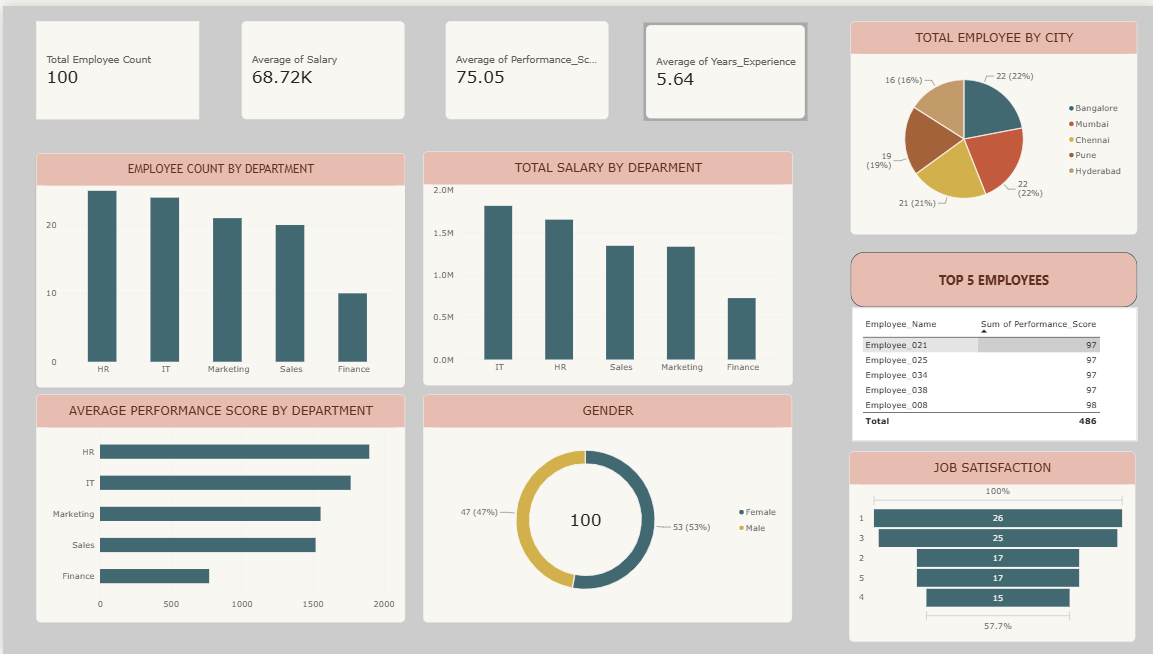

Layout of this report page (visuals, bound fields, positions):
{"tool":"powerbi","page":{"name":"Page 1","canvas":[1920,1080],"ordinal":0},"visuals":[{"type":"cardVisual","fields":{"Data":["Count(PowerBI_Employee_HR_Analytics_D.Employee_ID)"]},"box":[53.9,25.5,272.1,164.4],"z":0},{"type":"cardVisual","fields":{"Data":["Avg(PowerBI_Employee_HR_Analytics_D.Salary)"]},"box":[396.9,25.5,272,164],"z":1000},{"type":"cardVisual","fields":{"Data":["Avg(PowerBI_Employee_HR_Analytics_D.Years_Experience)"]},"box":[1066.7,26.7,273.3,164],"z":2000},{"type":"cardVisual","fields":{"Data":["Avg(PowerBI_Employee_HR_Analytics_D.Performance_Score)"]},"box":[737,25.5,272,164],"z":3000},{"type":"clusteredColumnChart","title":"EMPLOYEE COUNT  BY DEPARTMENT","fields":{"Category":["PowerBI_Employee_HR_Analytics_D.Department"],"Y":["Count(PowerBI_Employee_HR_Analytics_D.Employee_ID)"]},"box":[53.9,243.8,615.1,391.2],"z":4000},{"type":"clusteredColumnChart","title":"TOTAL SALARY BY DEPARMENT ","fields":{"Category":["PowerBI_Employee_HR_Analytics_D.Department"],"Y":["Sum(PowerBI_Employee_HR_Analytics_D.Salary)"]},"box":[700,243.3,616.7,390],"z":5000},{"type":"barChart","title":"AVERAGE PERFORMANCE SCORE BY DEPARTMENT","fields":{"Category":["PowerBI_Employee_HR_Analytics_D.Department"],"Y":["Sum(PowerBI_Employee_HR_Analytics_D.Performance_Score)"]},"box":[53.9,646.3,615.1,379.8],"z":6000},{"type":"donutChart","title":"GENDER","fields":{"Category":["PowerBI_Employee_HR_Analytics_D.Gender"],"Y":["Count(PowerBI_Employee_HR_Analytics_D.Employee_ID)"]},"box":[700,646.7,615,380],"z":7000},{"type":"pieChart","title":"TOTAL EMPLOYEE BY CITY","fields":{"Category":["PowerBI_Employee_HR_Analytics_D.City"],"Y":["CountNonNull(PowerBI_Employee_HR_Analytics_D.Employee_ID)"]},"box":[1412,26,478,356],"z":8000},{"type":"tableEx","fields":{"Values":["PowerBI_Employee_HR_Analytics_D.Employee_Name","Sum(PowerBI_Employee_HR_Analytics_D.Performance_Score)"]},"box":[1414,502,476,222],"z":9000},{"type":"shape","box":[1412,410,478,92],"z":10000},{"type":"funnel","title":"JOB SATISFACTION","fields":{"Category":["PowerBI_Employee_HR_Analytics_D.Job_Satisfaction"],"Y":["CountNonNull(PowerBI_Employee_HR_Analytics_D.Employee_ID)"]},"box":[1410,742.5,477.5,317.5],"z":11000}]}

Visuals, with their boxes in screenshot pixels (x1, y1, x2, y2), scaled from the page's 1920x1080 canvas onto the 1153x654 screenshot:
cardVisual - Count(PowerBI_Employee_HR_Analytics_D.Employee_ID): 32:15:196:115
cardVisual - Avg(PowerBI_Employee_HR_Analytics_D.Salary): 238:15:402:115
cardVisual - Avg(PowerBI_Employee_HR_Analytics_D.Years_Experience): 641:16:805:115
cardVisual - Avg(PowerBI_Employee_HR_Analytics_D.Performance_Score): 443:15:606:115
"EMPLOYEE COUNT  BY DEPARTMENT" clusteredColumnChart: 32:148:402:385
"TOTAL SALARY BY DEPARMENT " clusteredColumnChart: 420:147:791:383
"AVERAGE PERFORMANCE SCORE BY DEPARTMENT" barChart: 32:391:402:621
"GENDER" donutChart: 420:392:790:622
"TOTAL EMPLOYEE BY CITY" pieChart: 848:16:1135:231
tableEx - PowerBI_Employee_HR_Analytics_D.Employee_Name x Sum(PowerBI_Employee_HR_Analytics_D.Performance_Score): 849:304:1135:438
shape: 848:248:1135:304
"JOB SATISFACTION" funnel: 847:450:1133:642
